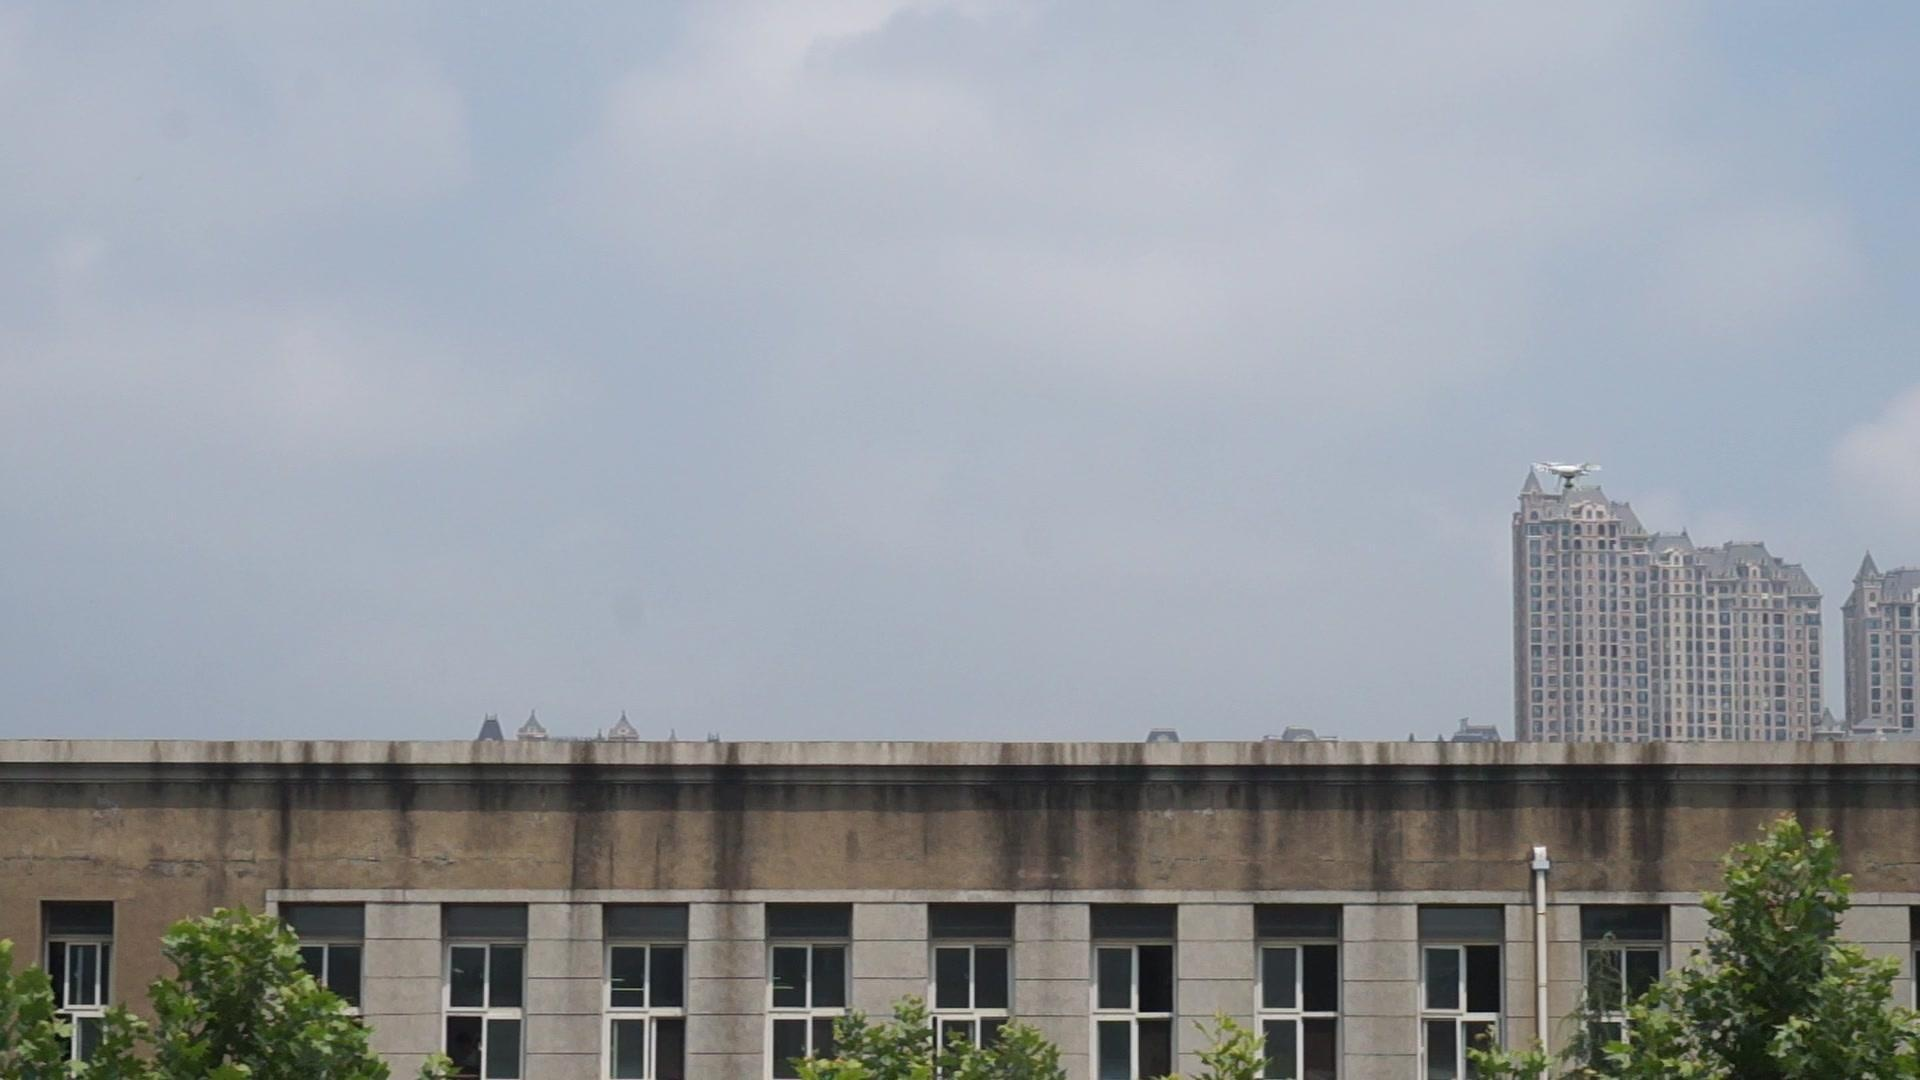UAV: (1532, 462, 1602, 493)
